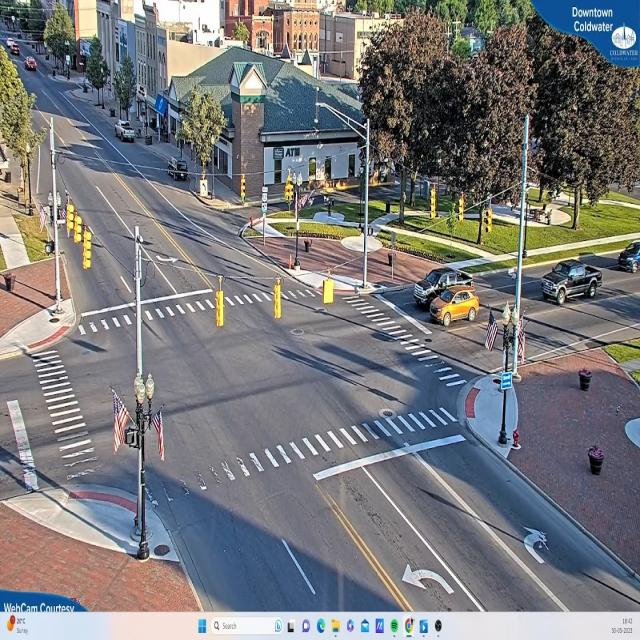car: (543, 261, 602, 304), (430, 290, 480, 323), (409, 266, 456, 299), (116, 123, 137, 143), (24, 58, 37, 72)
